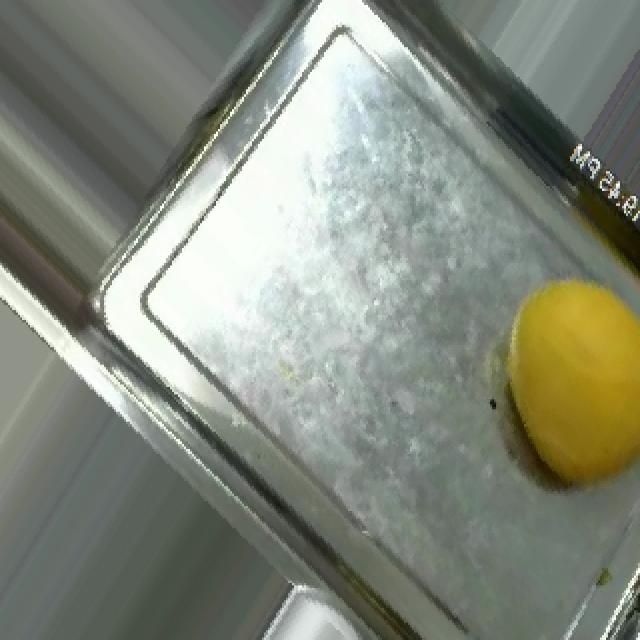fruit: (438, 231, 640, 528), (0, 67, 158, 387)
